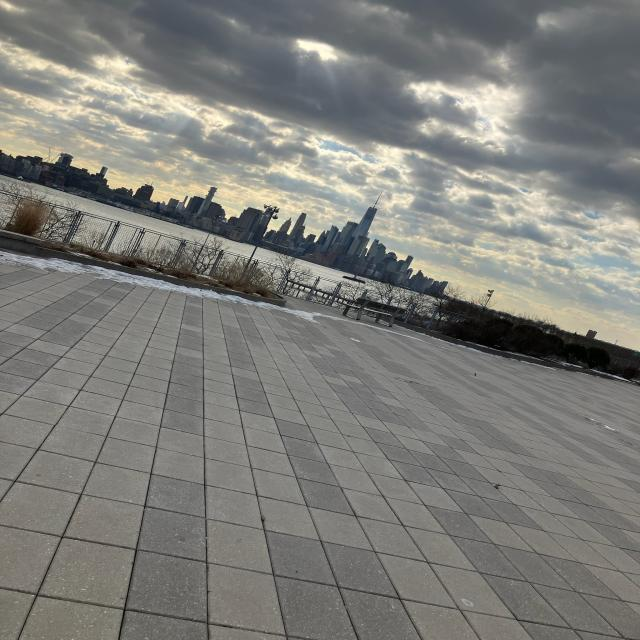WTC: (353, 190, 387, 238)
